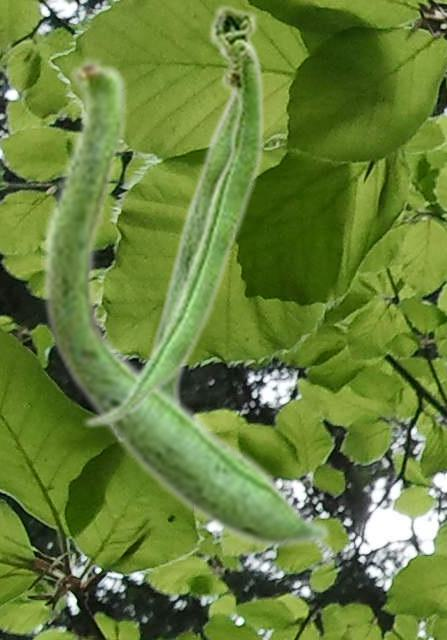french_bean: (41, 53, 331, 550), (82, 2, 264, 428), (147, 41, 261, 399)
